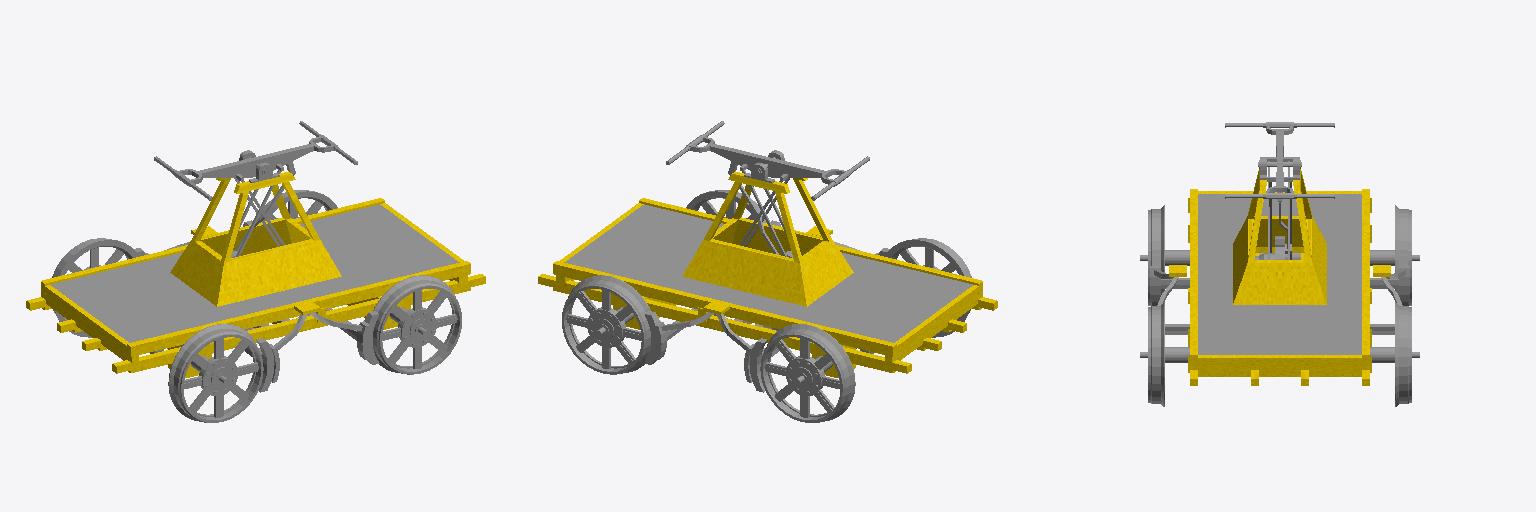
3 views of the same model, side by side, from view 1: azimuth 30°, elevation 25°; view 2: azimuth 150°, elevation 25°; view 3: azimuth 270°, elevation 25° (orthographic).
Parts seen in each view (by area): view 1: FRAME_Cube.010, FRAME_WHEEL_1_Gear.001, FRAME_WHEEL_2_Cylinder.010, BRAKE_Cylinder.003, PUMP_HANDLE_Cube.011; view 2: FRAME_Cube.010, FRAME_WHEEL_1_Gear.001, FRAME_WHEEL_2_Cylinder.010, BRAKE_Cylinder.003, PUMP_HANDLE_Cube.011; view 3: FRAME_Cube.010, FRAME_WHEEL_2_Cylinder.010, BRAKE_Cylinder.003, FRAME_WHEEL_1_Gear.001, PUMP_HANDLE_Cube.011, Cube.006_Cube.007.
Part boxes in pixels (x1,y1,x2,y2): FRAME_Cube.010: (26,150,485,373); FRAME_WHEEL_1_Gear.001: (52,238,263,422); FRAME_WHEEL_2_Cylinder.010: (258,190,461,374); BRAKE_Cylinder.003: (134,220,379,392); PUMP_HANDLE_Cube.011: (154,121,357,200); FRAME_Cube.010: (538,150,997,373); FRAME_WHEEL_1_Gear.001: (760,238,971,422); FRAME_WHEEL_2_Cylinder.010: (562,190,766,374); BRAKE_Cylinder.003: (644,220,889,392); PUMP_HANDLE_Cube.011: (666,121,869,200); FRAME_Cube.010: (1188,157,1371,385); FRAME_WHEEL_2_Cylinder.010: (1140,302,1419,406); BRAKE_Cylinder.003: (1150,253,1409,334); FRAME_WHEEL_1_Gear.001: (1140,205,1419,305); PUMP_HANDLE_Cube.011: (1225,122,1334,198); Cube.006_Cube.007: (1198,373,1361,376).
Bounding box in the file's own units: 2.6 × 1.32 × 1.71.
3 materials, 1 textured.